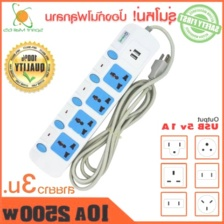three_eye_plug: (26, 19, 161, 179)
